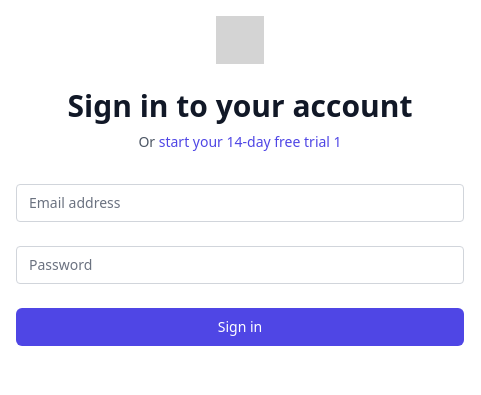
Scenario: Login Test › Empty fields!
Click the button with id "login-btn": point(240, 327) [16,308,464,346]
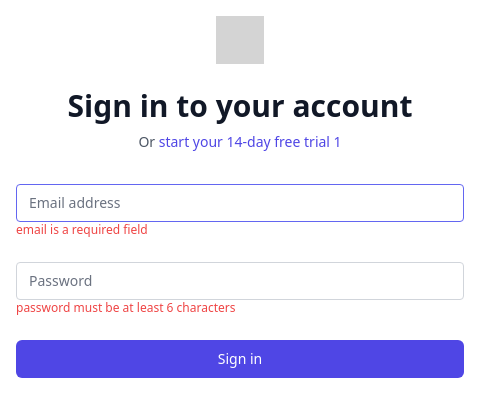
Expected: the text "email is a required field" is shown, [16,221,148,238]
Expected: the text "password must be at least 6 characters" is shown, [16,299,236,316]
